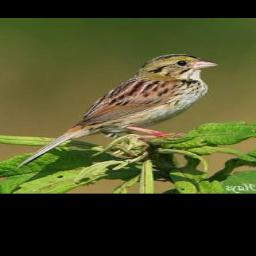Sparrow: (13, 52, 222, 171)
